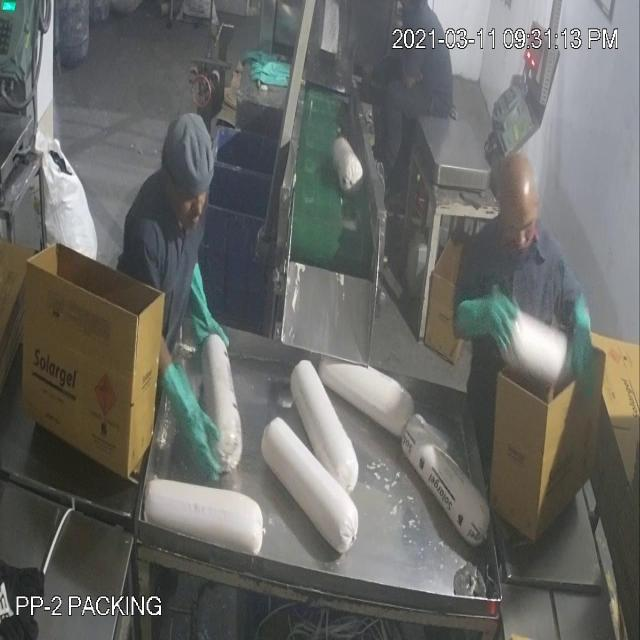gloves: (157, 345, 227, 487), (448, 283, 524, 366), (560, 278, 596, 417)
